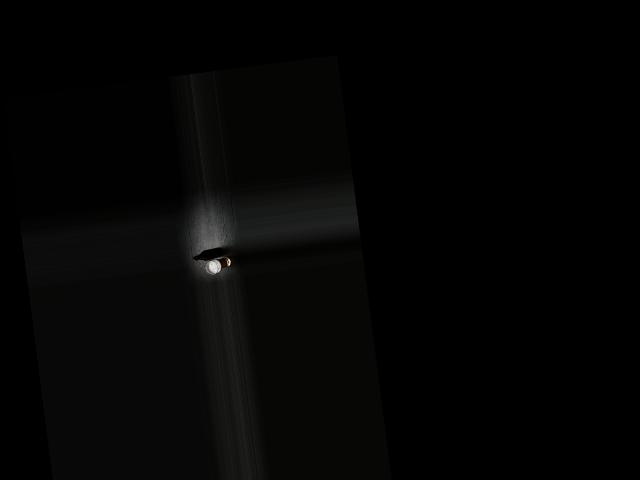beer: (191, 246, 223, 262)
